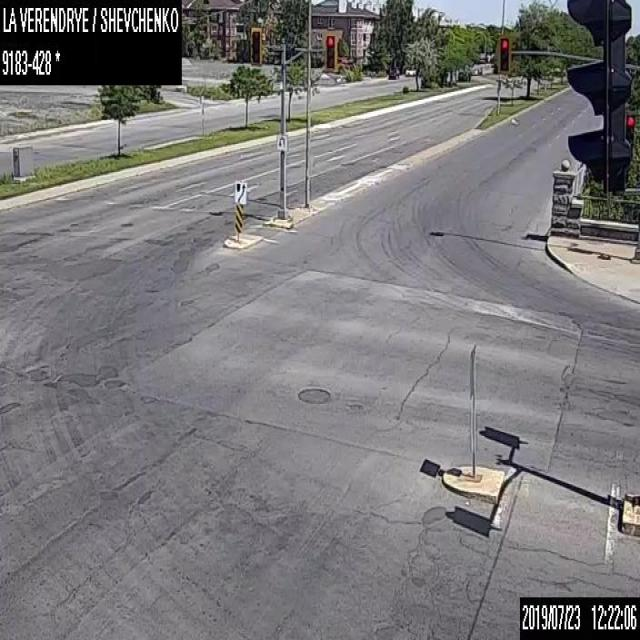vehicle: (387, 67, 399, 79), (404, 66, 416, 76)
